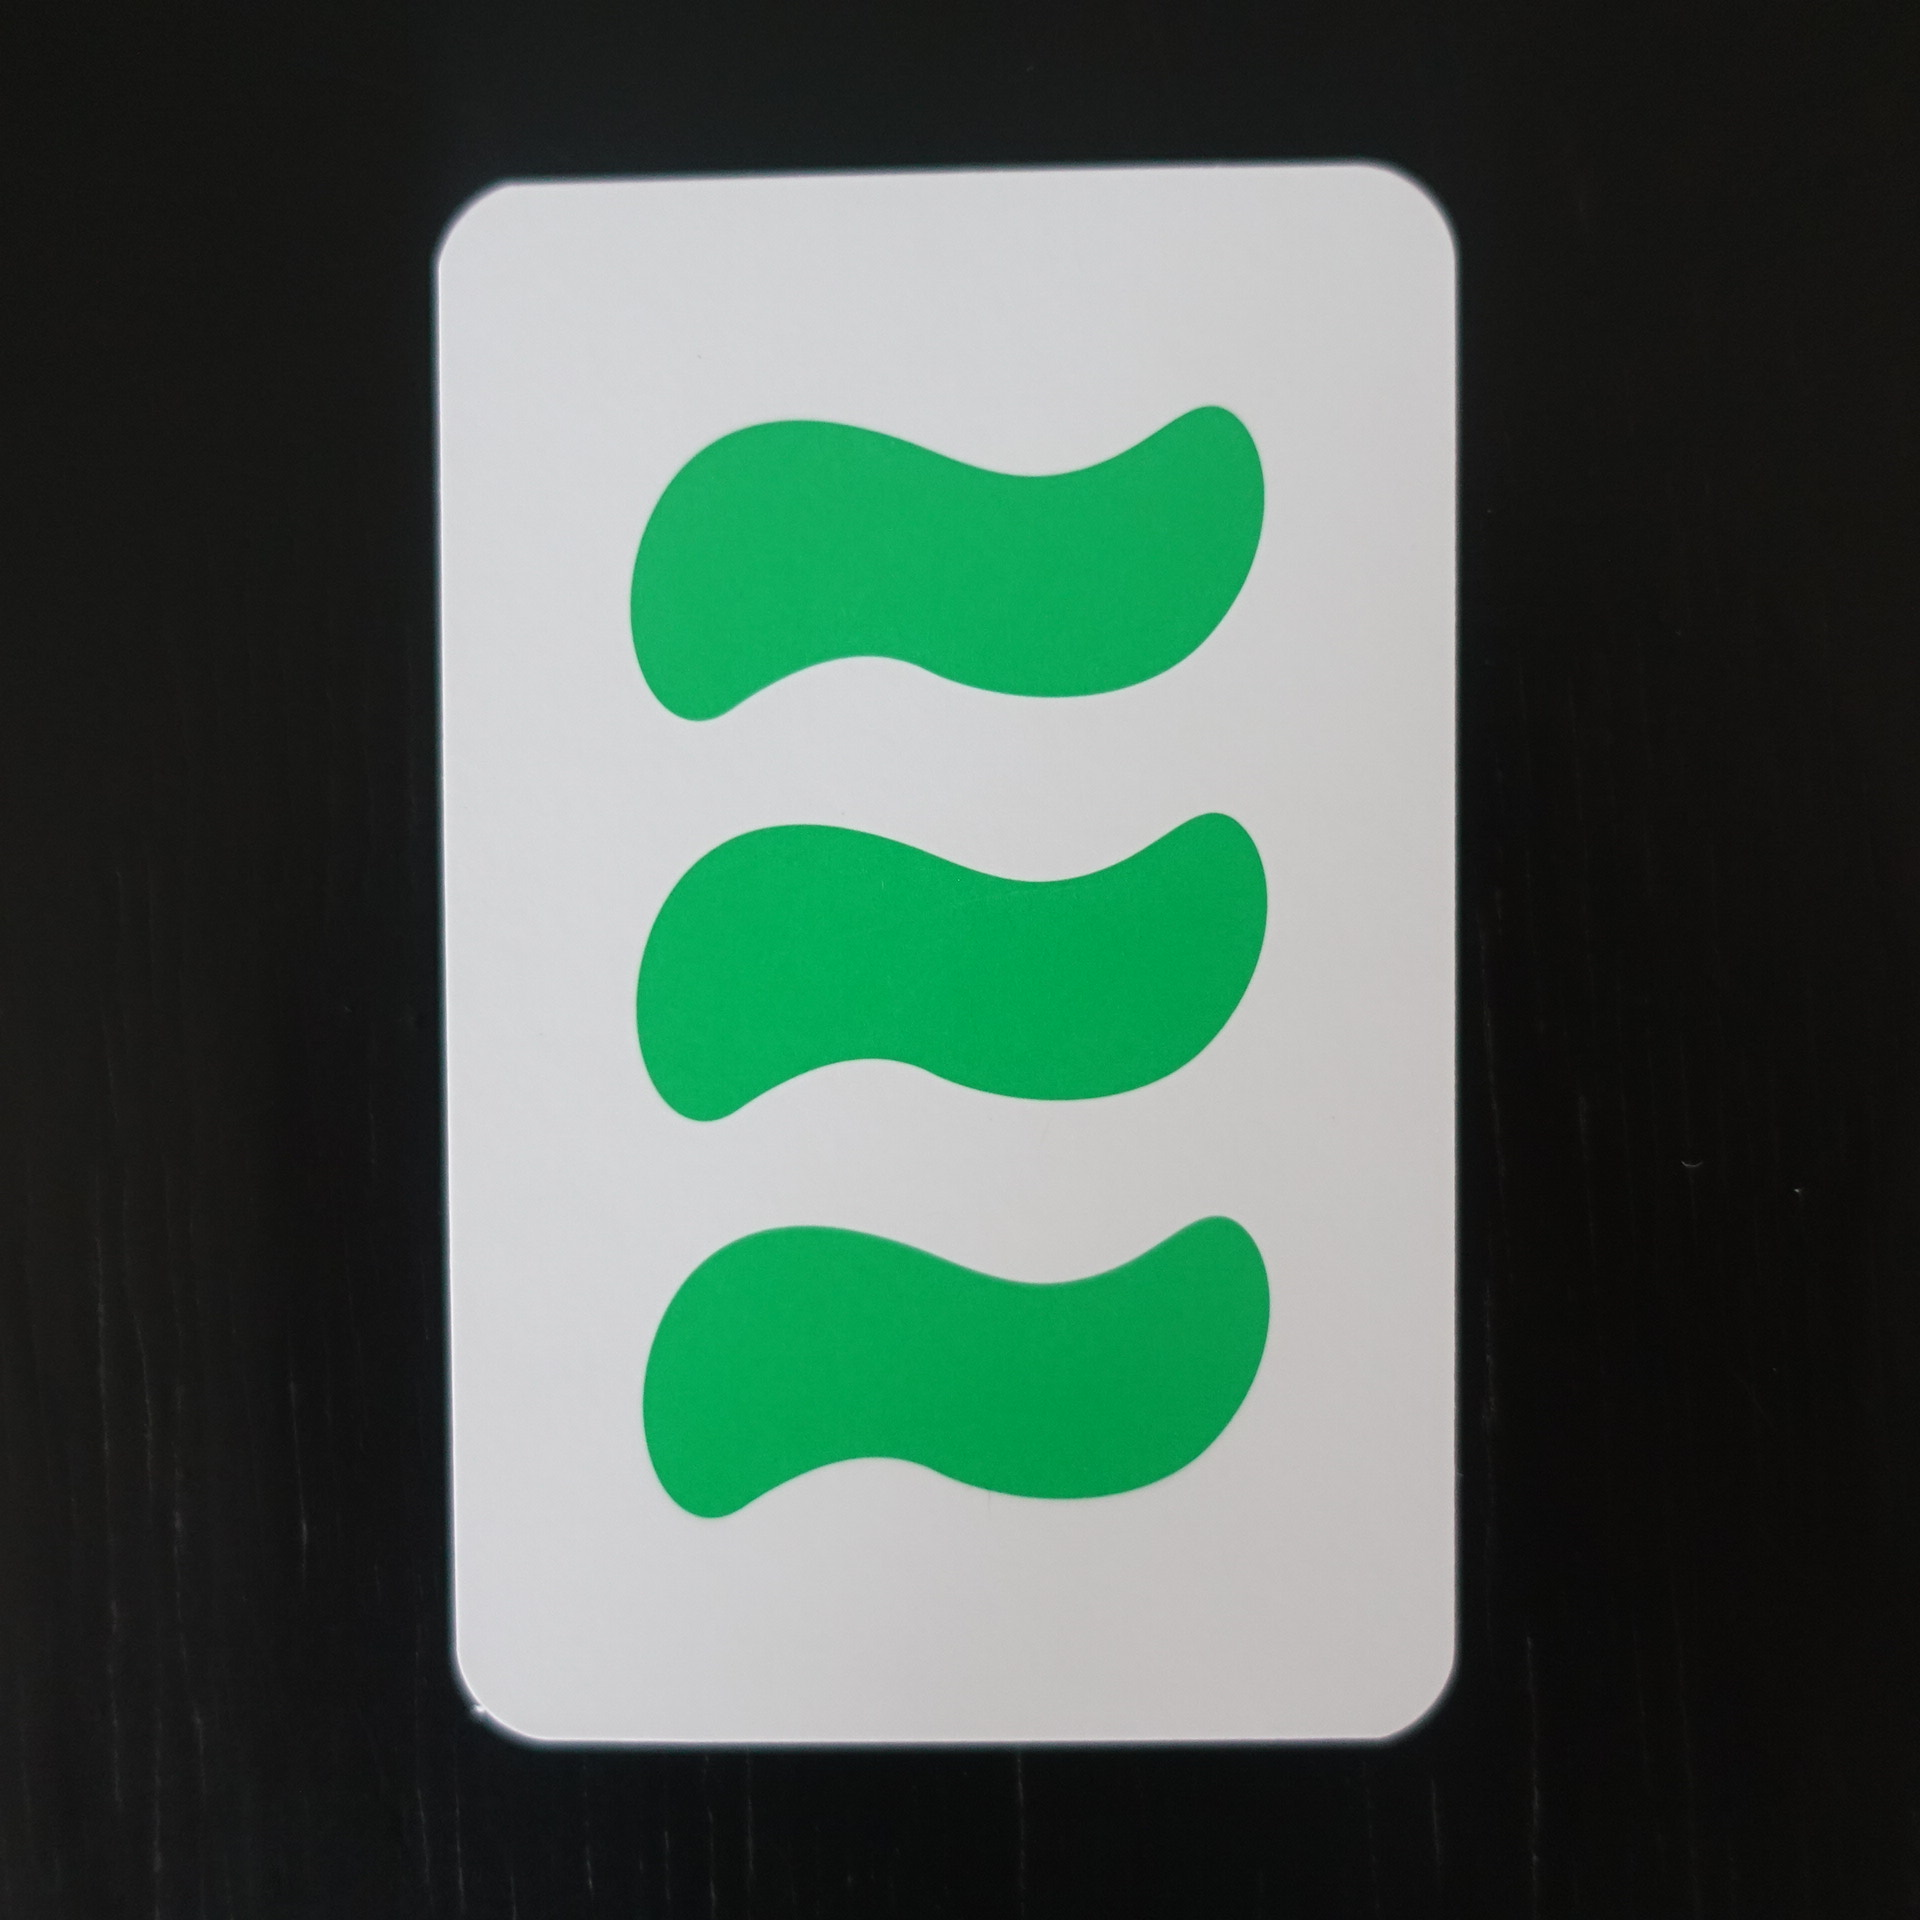c-2-f-d-r: (397, 142, 1496, 1776)
